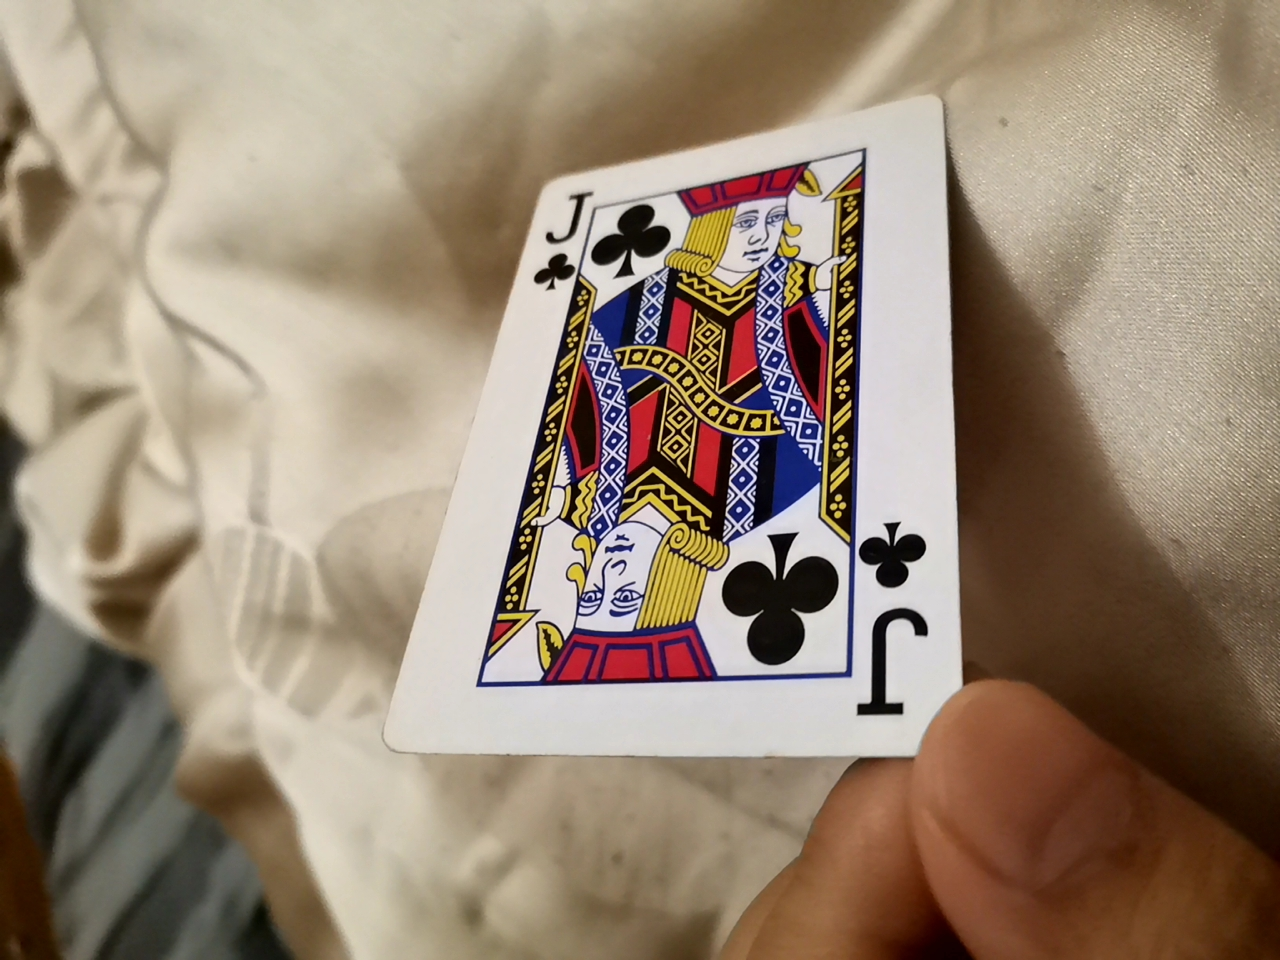mh j: (402, 122, 952, 785)
